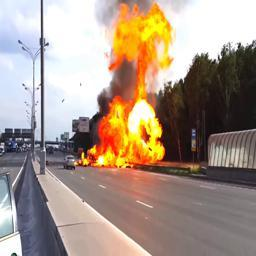fire: (76, 3, 175, 172)
